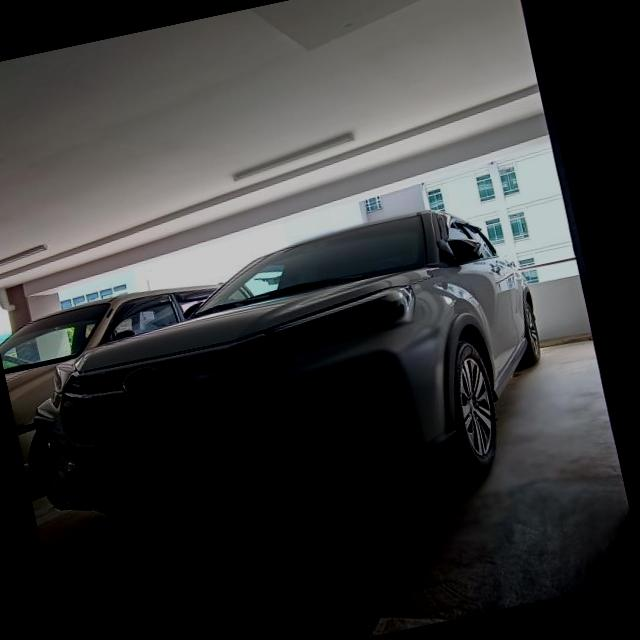PeroduaAtiva: (0, 189, 568, 566)
